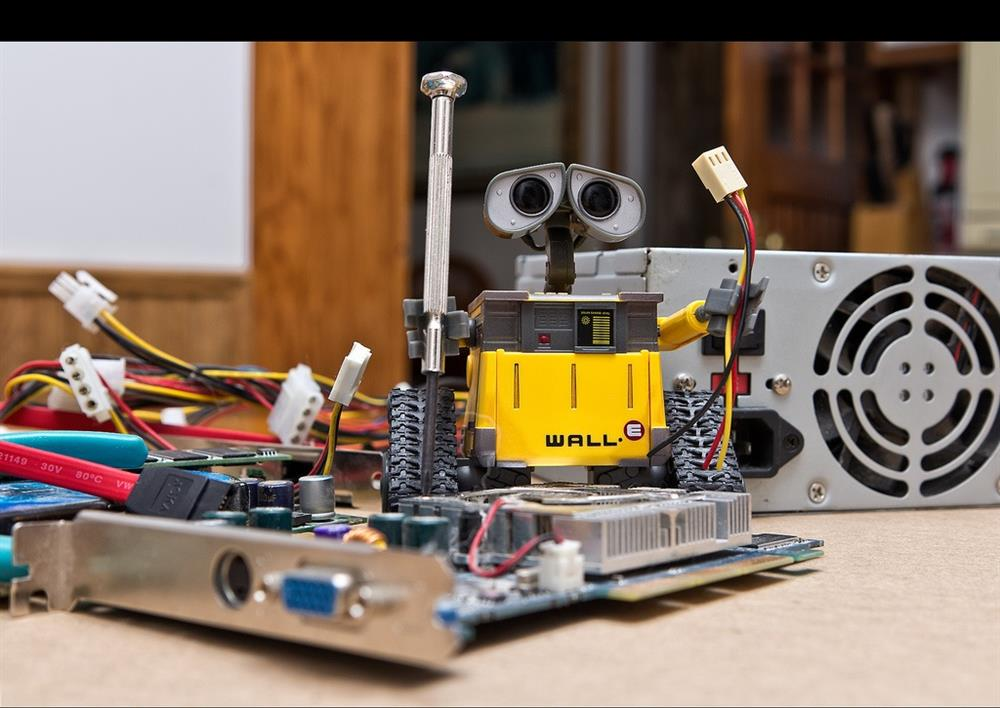walle: (385, 158, 746, 513)
